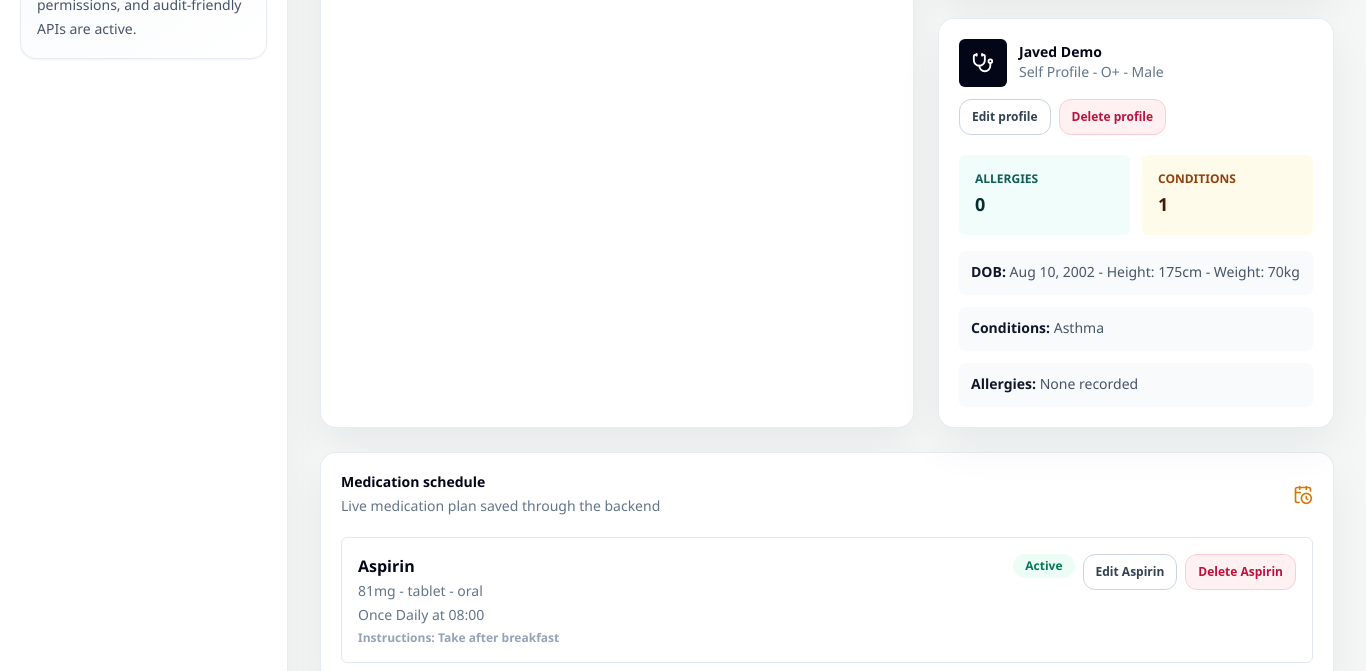
it: MedVault dashboard › edits and deletes a medication from the dashboard
The width and height of the screenshot is (1366, 671).
(page scrolled)
Expected: the text "Aspirin" is shown, top-left (358, 555), bottom-right (415, 577)
Click the button "Edit Aspirin" at (1130, 572), box top-left (1082, 554), bottom-right (1177, 590)
(page scrolled)
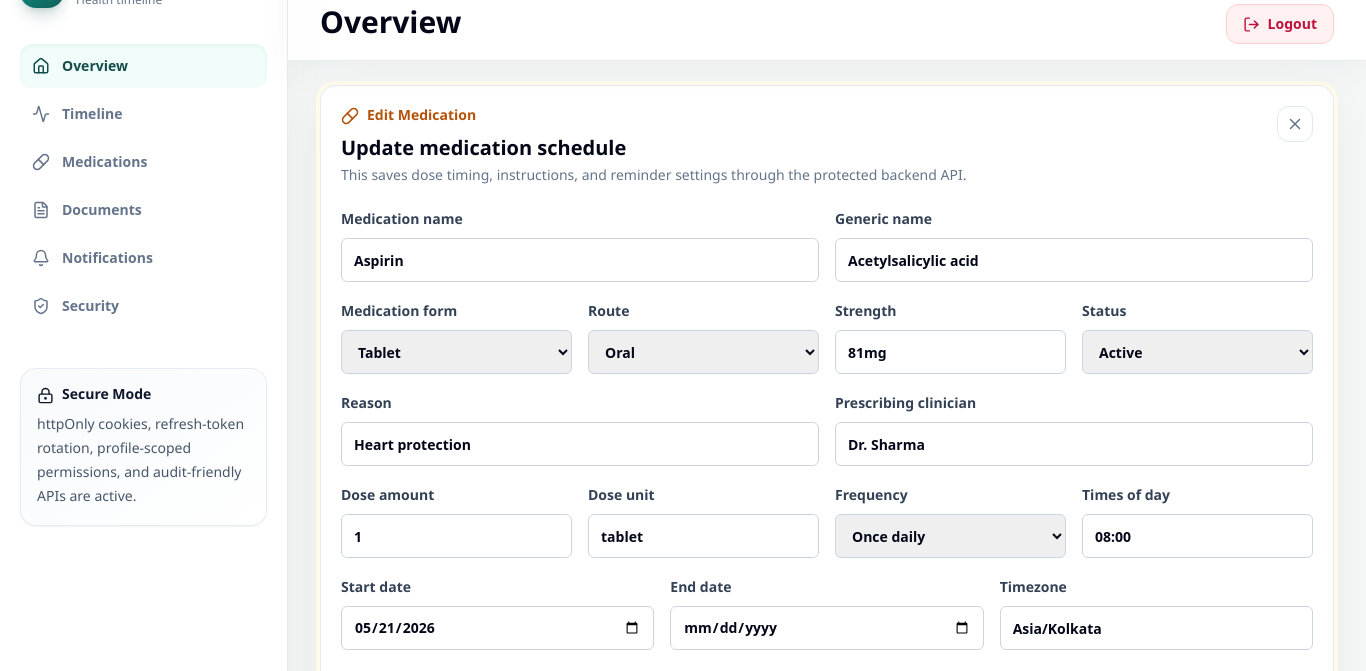
Replace the text in the field labelled "Medication name" with "Aspirin Low Dose" at (580, 260), box top-left (341, 238), bottom-right (819, 282)
Replace the text in the field labelled "Strength" with "100mg" at (950, 352), box top-left (835, 330), bottom-right (1066, 374)
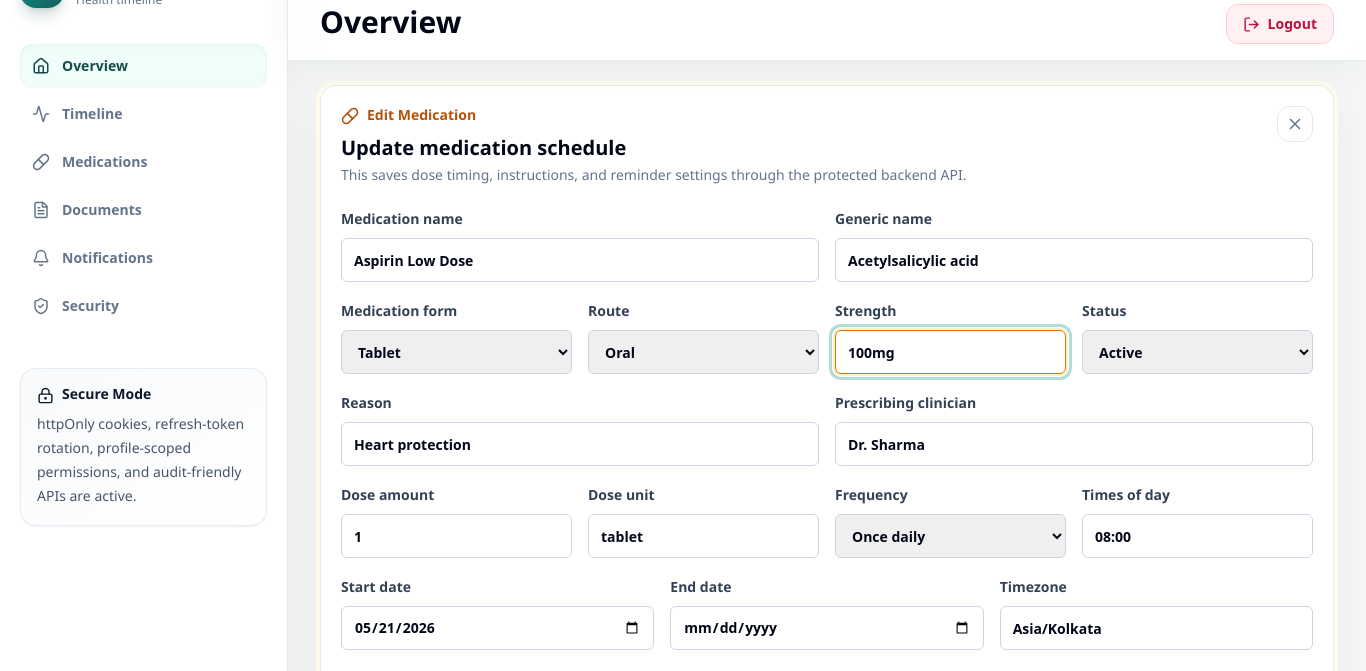
Replace the text in the field labelled "Times of day" with "09:00" at (1198, 536), box top-left (1082, 514), bottom-right (1313, 558)
(page scrolled)
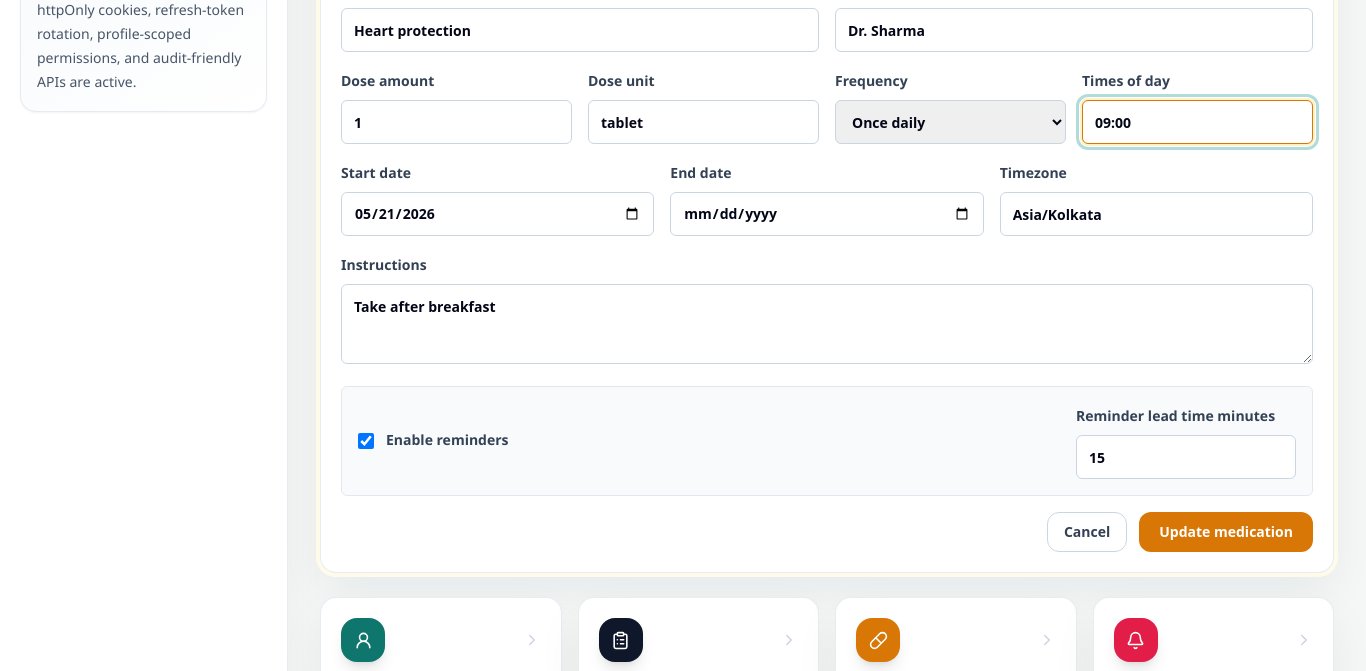
Replace the text in the text box labelled "Instructions" with "Take after dinner" at (827, 324), box top-left (341, 284), bottom-right (1313, 364)
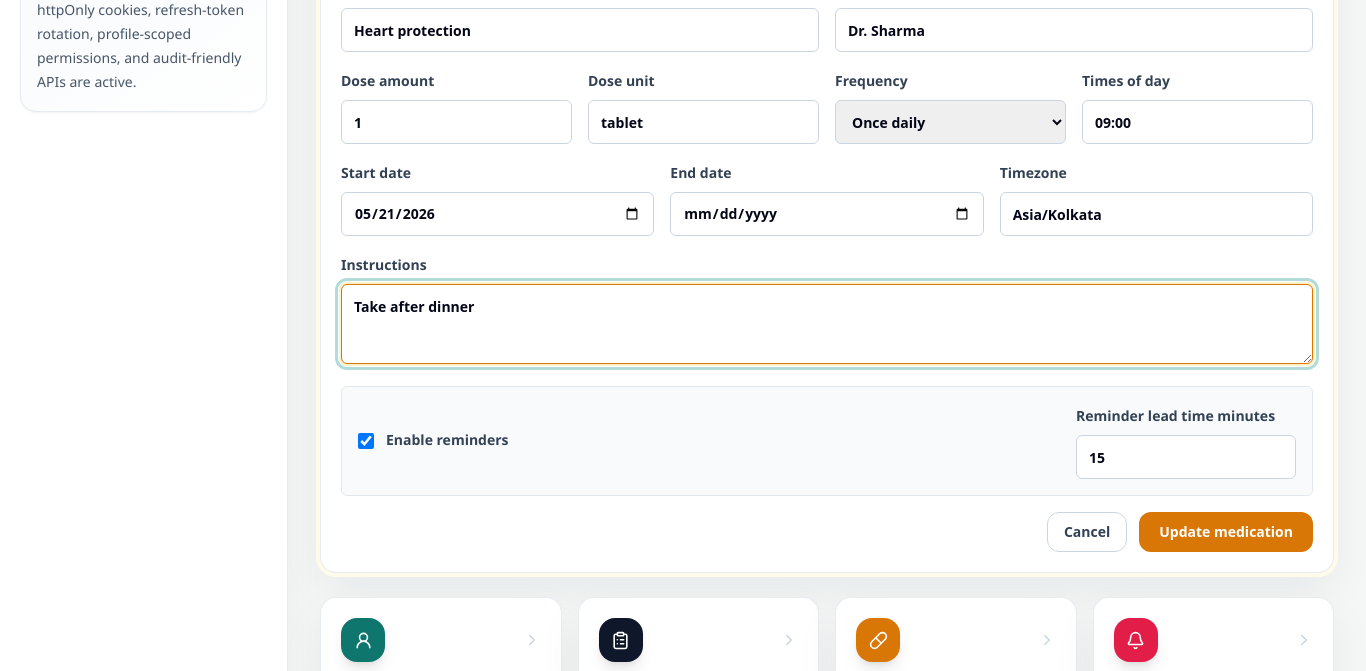
Click the button "Update medication" at (1226, 532), box top-left (1139, 512), bottom-right (1313, 552)
(page scrolled)
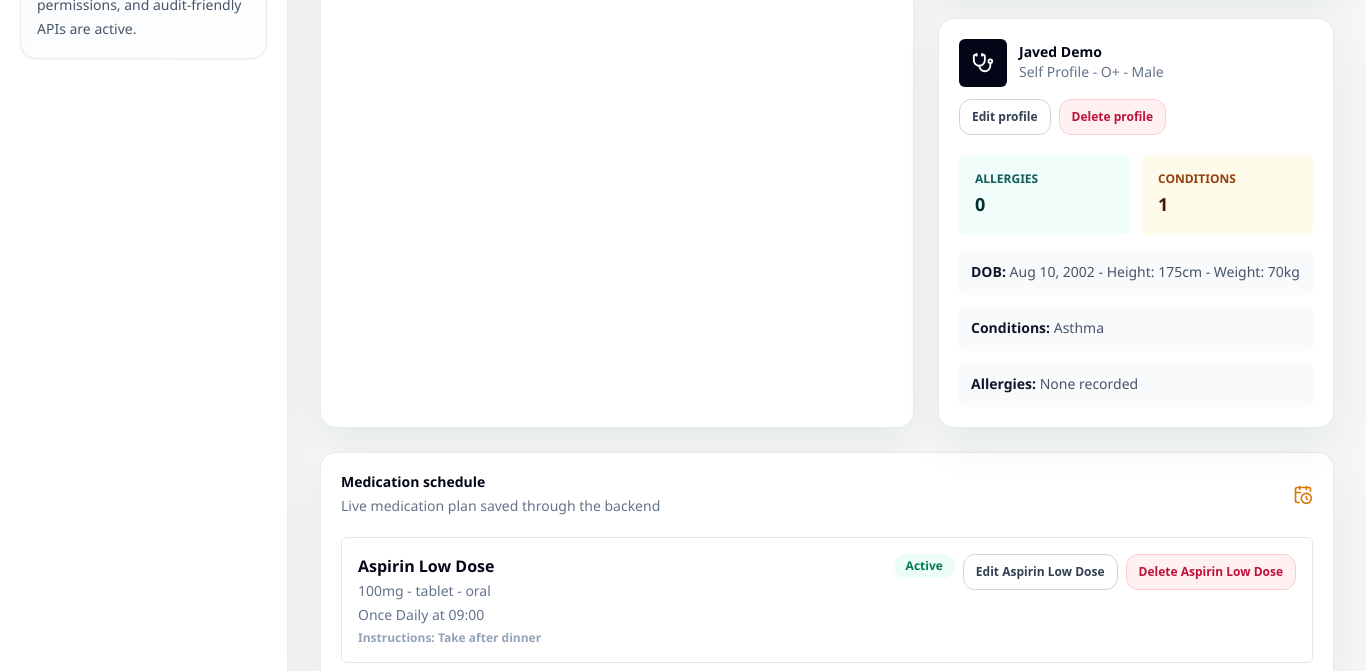
Result: the text "Aspirin Low Dose" is shown at top-left (358, 555), bottom-right (494, 577)
Click the button "Delete Aspirin Low Dose" at (1211, 572), box top-left (1126, 554), bottom-right (1296, 590)
(page scrolled)
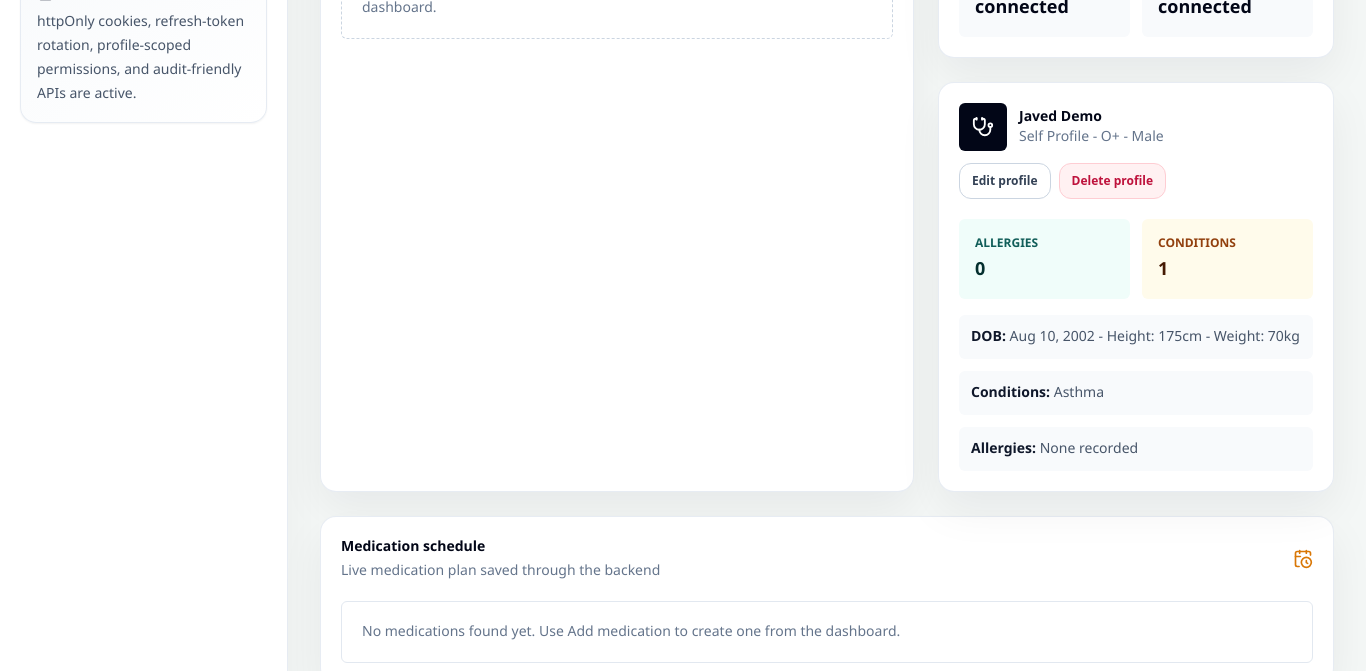
Result: the text "No medications found yet. Use Add medication to create one from the dashboard." is shown at top-left (362, 622), bottom-right (900, 641)
